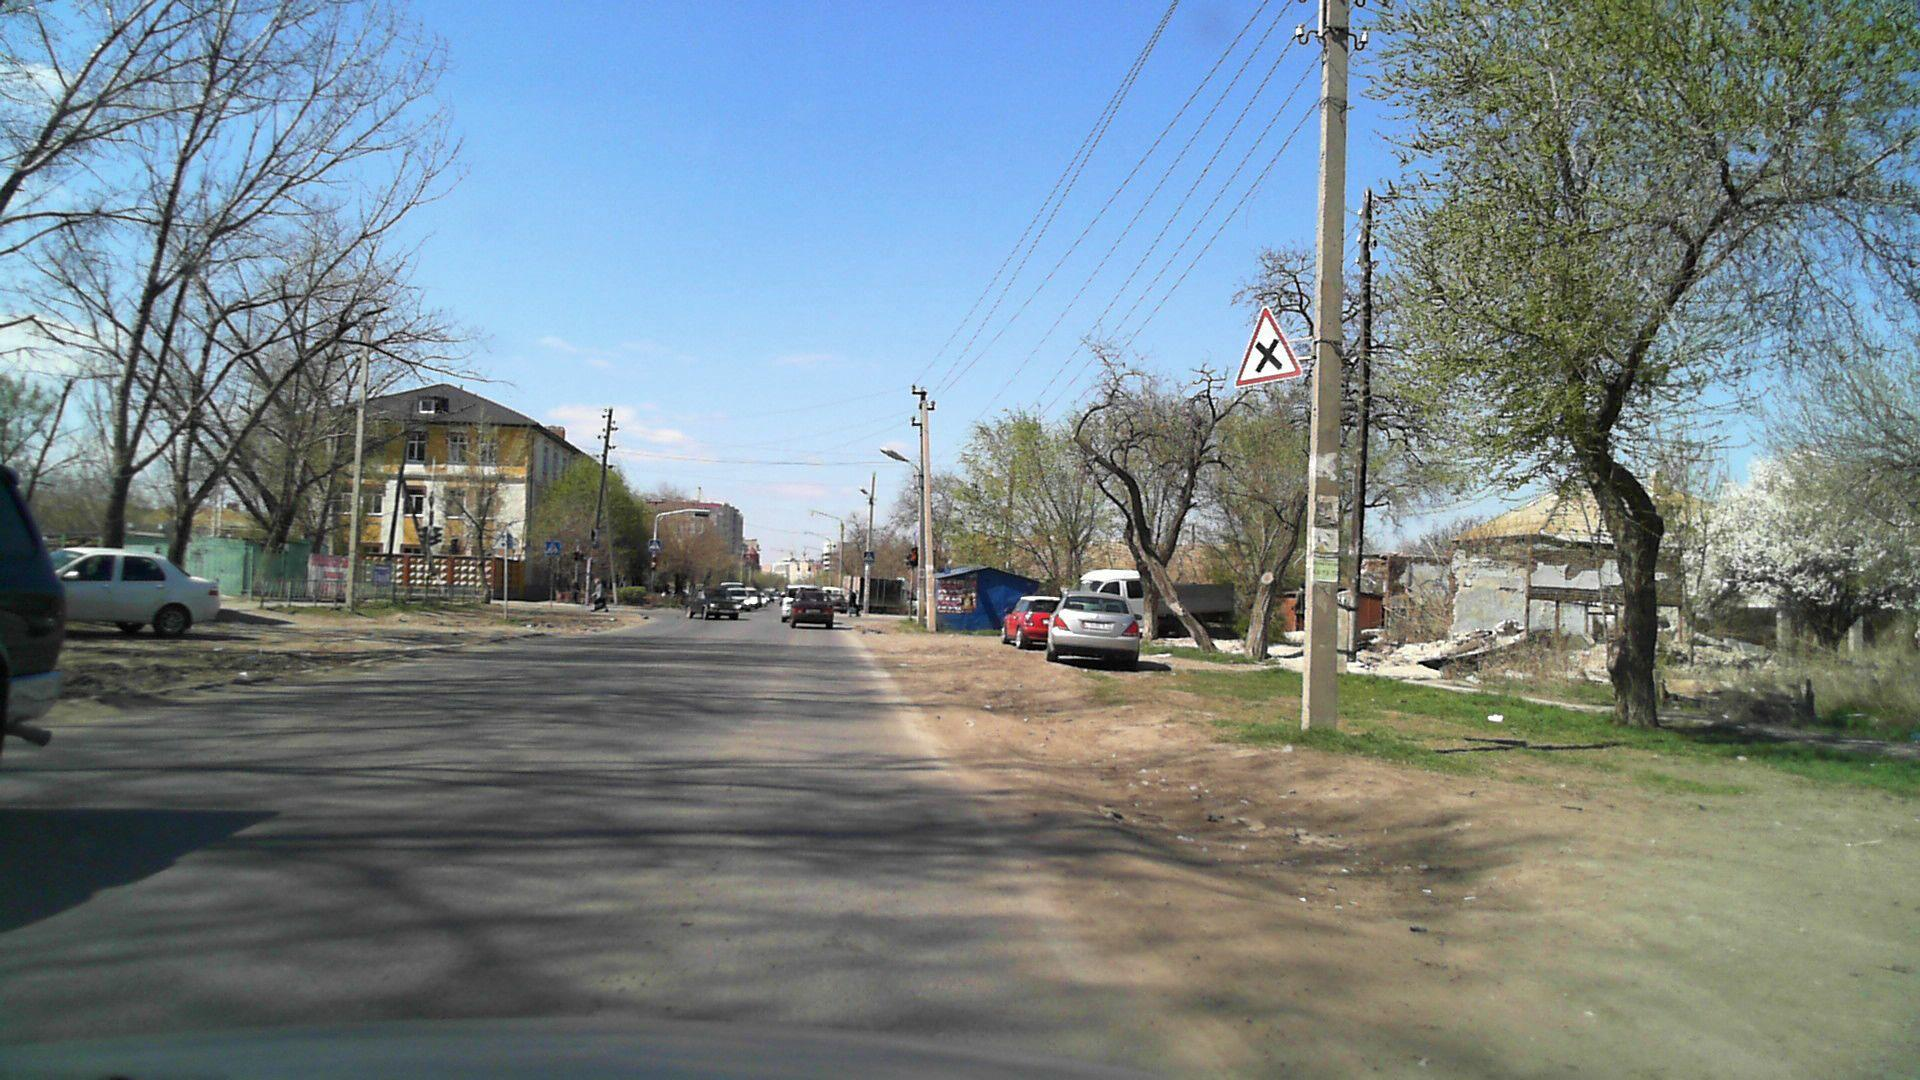1_6: (1234, 305, 1304, 386)
5_19_1: (547, 541, 559, 555), (864, 550, 874, 562)
5_19_2: (649, 538, 662, 553)
